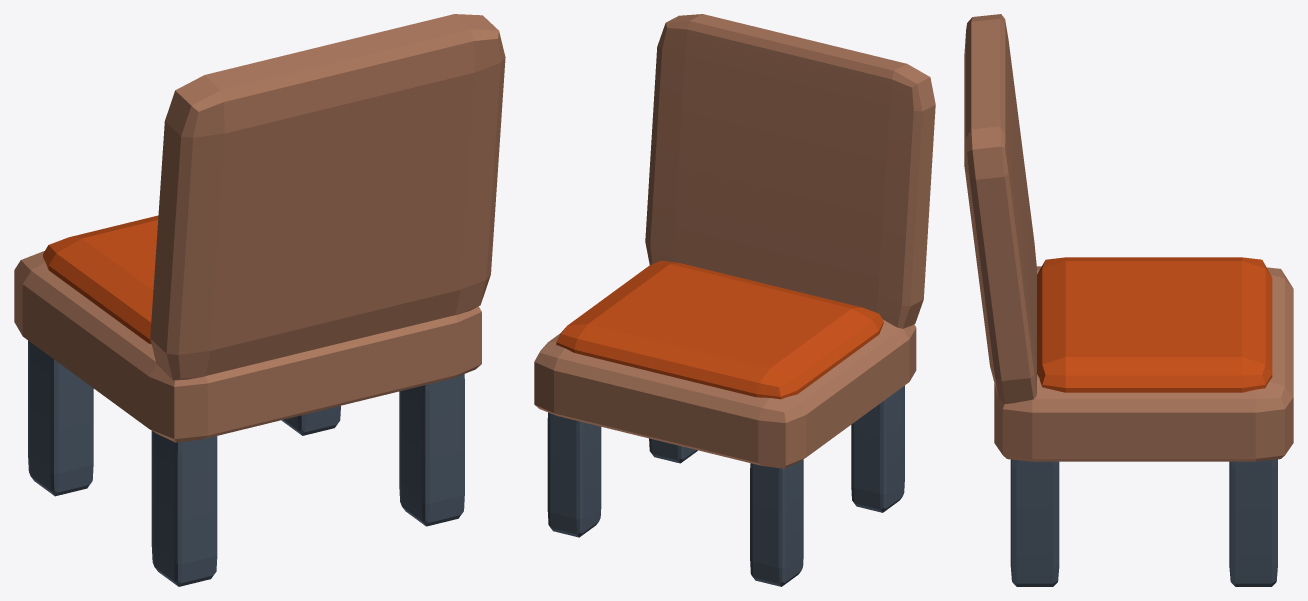
The model's file is chair_singlebedroom.fbx.
3 renders of one model, left to right at view 1: azimuth 30°, elevation 25°; view 2: azimuth 150°, elevation 25°; view 3: azimuth 270°, elevation 25°, orthographic. The views are drawn at different scales.
Visible parts, largest first — view 1: chair_singlebedroom, Cube.010, Cube.055; view 2: chair_singlebedroom, Cube.055, Cube.010; view 3: chair_singlebedroom, Cube.055, Cube.010.
Boxes of the visible parts, <box> form: chair_singlebedroom: <box>14,14,505,442</box>; Cube.010: <box>28,340,464,586</box>; Cube.055: <box>43,215,158,344</box>; chair_singlebedroom: <box>534,14,935,468</box>; Cube.055: <box>556,260,883,399</box>; Cube.010: <box>547,385,904,586</box>; chair_singlebedroom: <box>964,14,1293,461</box>; Cube.055: <box>1037,257,1272,392</box>; Cube.010: <box>1010,459,1277,586</box>.
Bounding box in the file's own units: 66.72 × 101 × 66.44.
